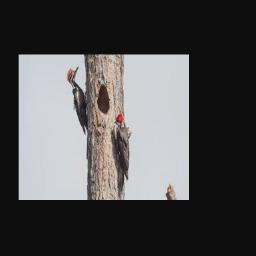Woodpecker: (66, 65, 88, 134), (114, 114, 130, 199)
